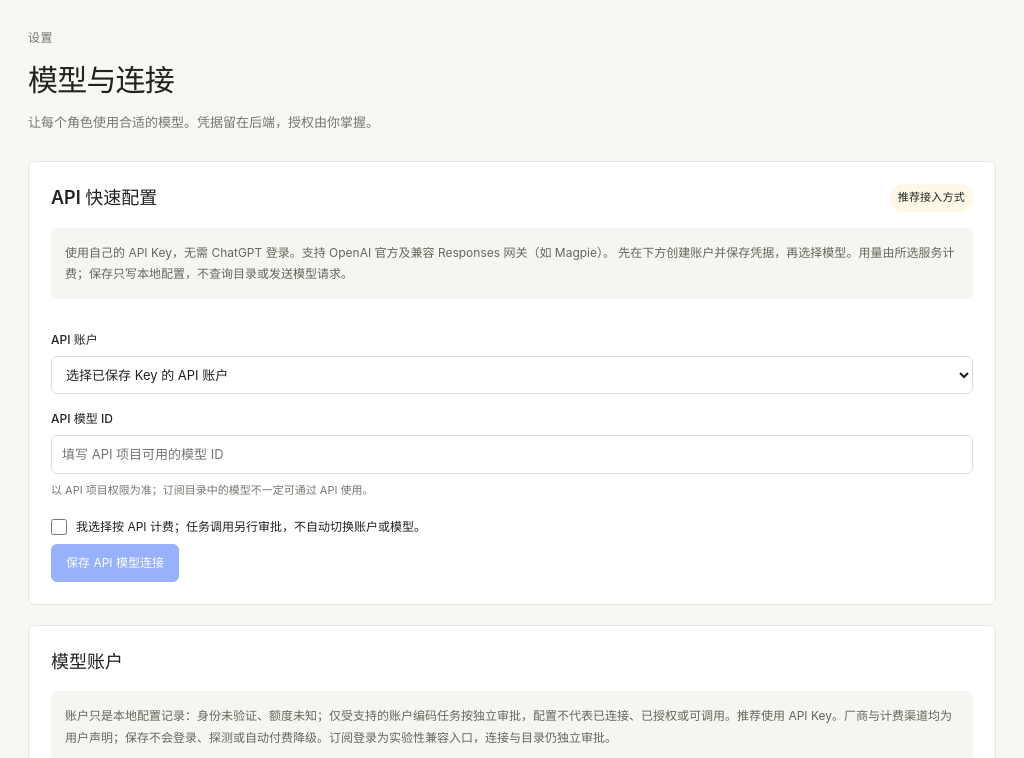
Test case: creates an explicit API route and profile without login, discovery, inference or role changes
The image size is (1024, 758).
Select "My API · 凭据版本 1" in the dropdown labelled "API 账户" at (512, 375), box [51,356,973,394]
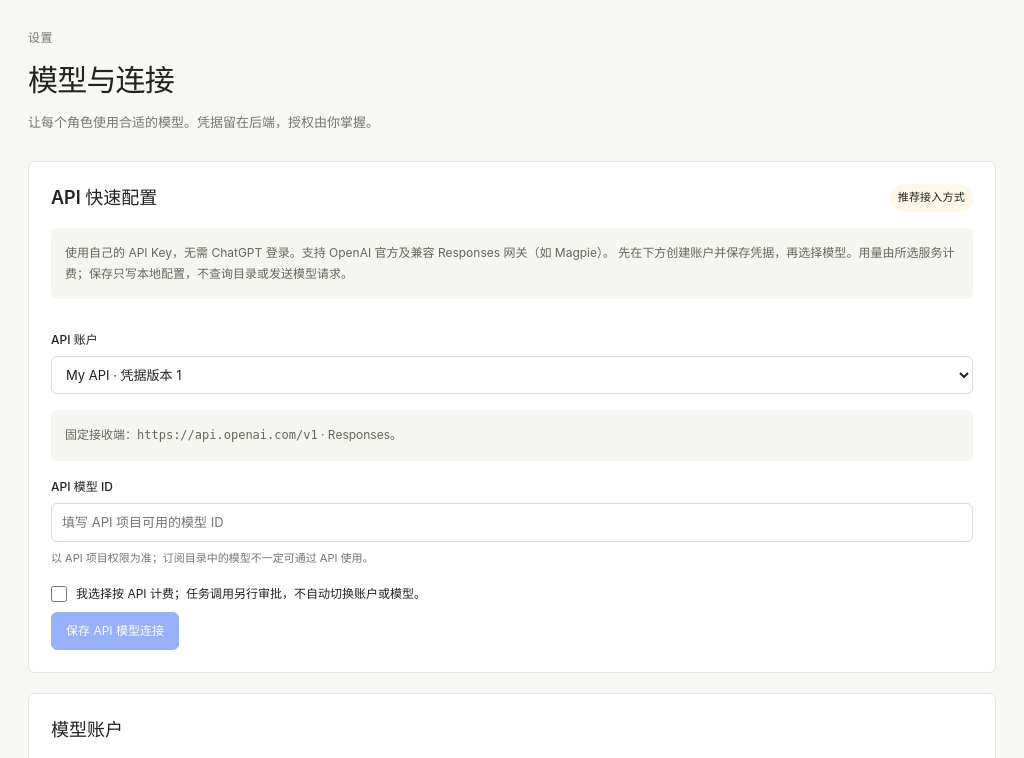
Type "approved-api-model" into the field labelled "API 模型 ID" at (512, 522), box [51,503,973,542]
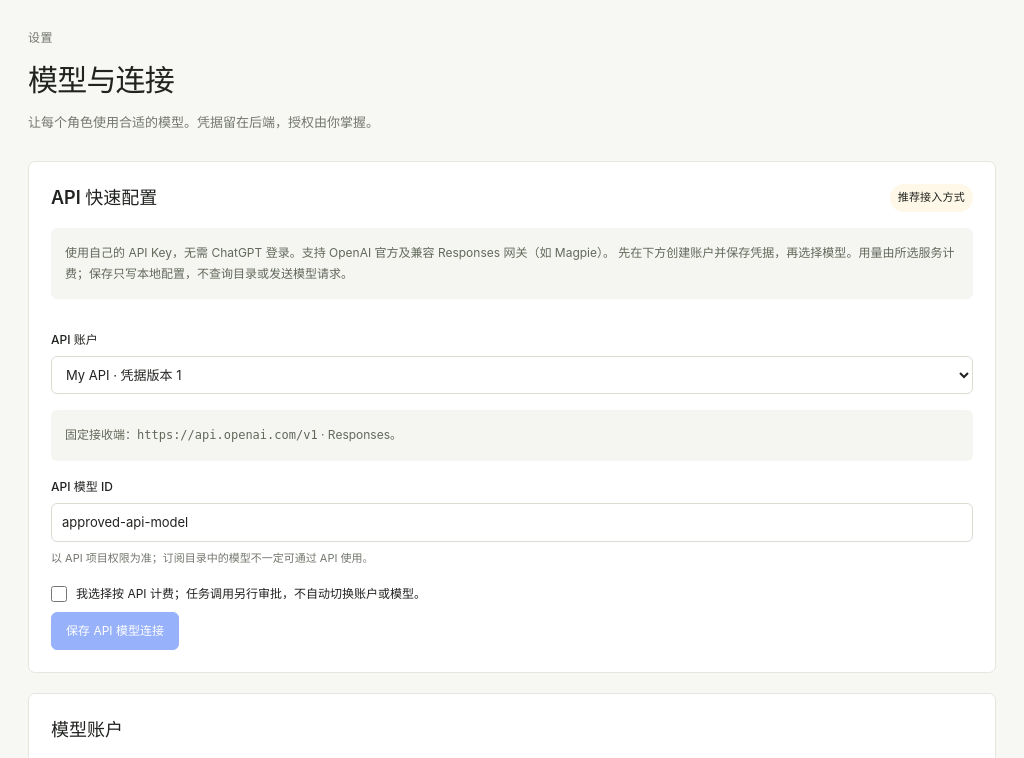
Expected: the button "保存 API 模型连接" is disabled, [51,612,179,650]
Click the checkbox labelled "我选择按 API 计费；任务调用另行审批，不自动切换账户或模型。" at (59, 594), box [51,586,67,602]
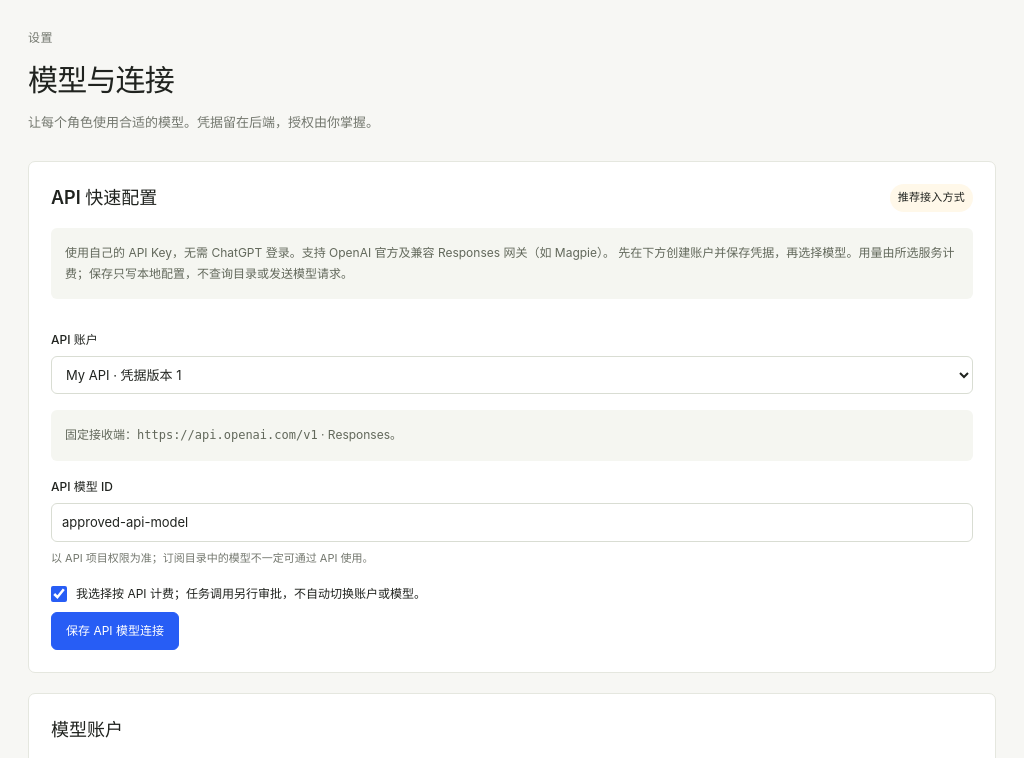
Click the button "保存 API 模型连接" at (115, 631), box [51,612,179,650]
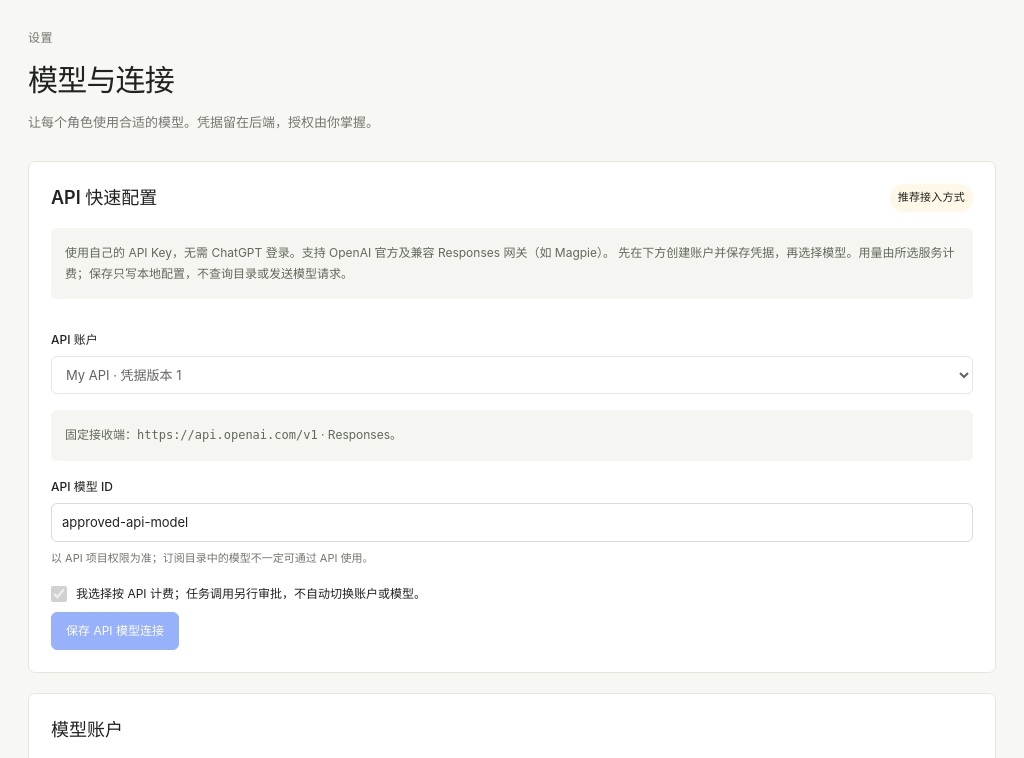
Click the button "保存 API 模型连接" at (115, 631), box [51,612,179,650]
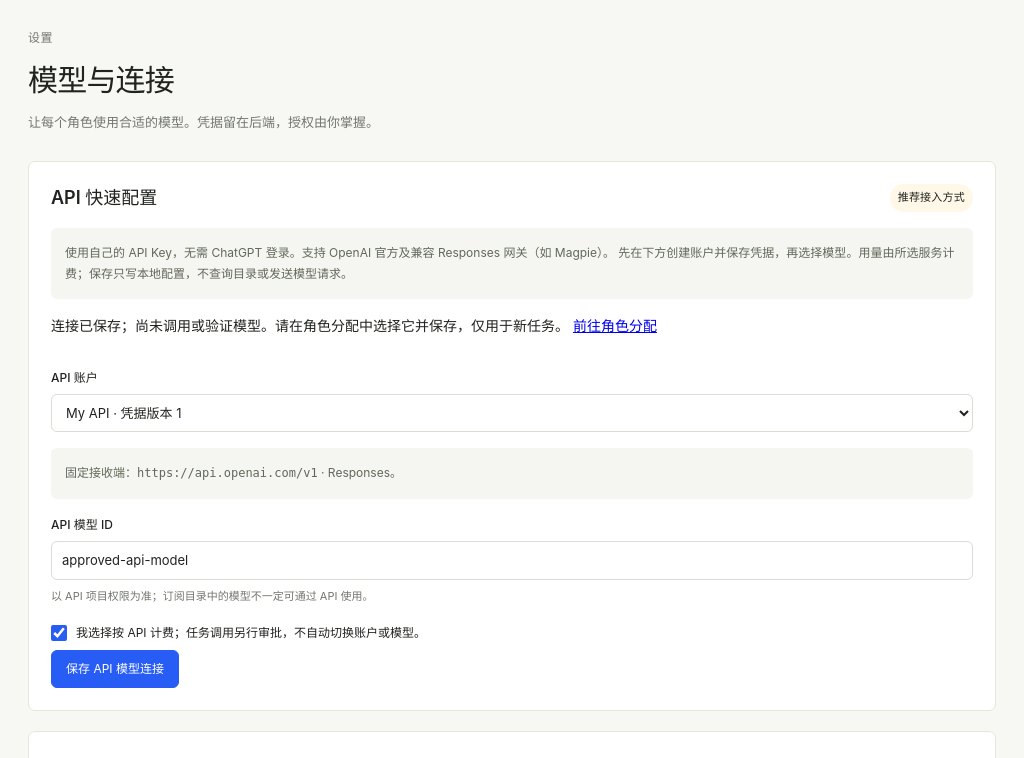
Expected: the message shows "连接已保存", [51,317,569,334]
